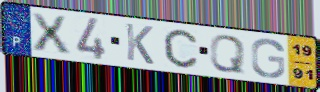4: (74, 15, 108, 62)
C: (162, 28, 199, 70)
G: (250, 38, 287, 80)
K: (124, 21, 156, 66)
Q: (208, 34, 247, 75)
X: (28, 11, 73, 56)
